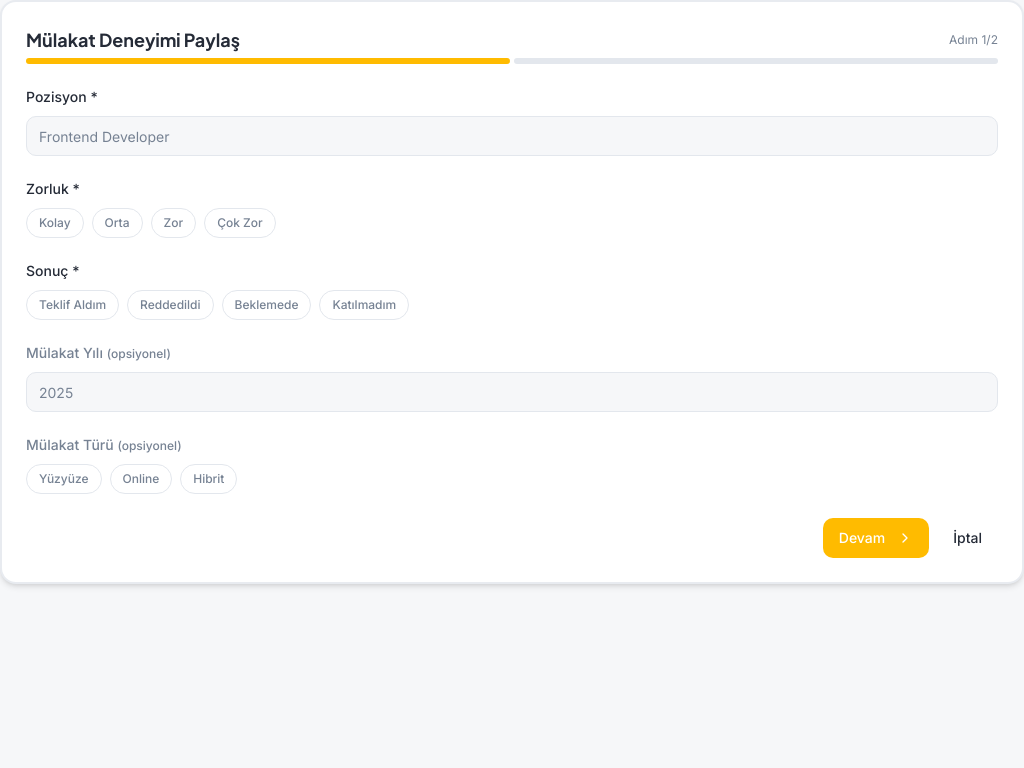
it: InterviewForm › advances to step 2 when required fields filled
Type "Backend Dev" into the field with placeholder "Frontend Developer".
click(512, 136); type("Backend Dev")  # box [26,116,998,156]
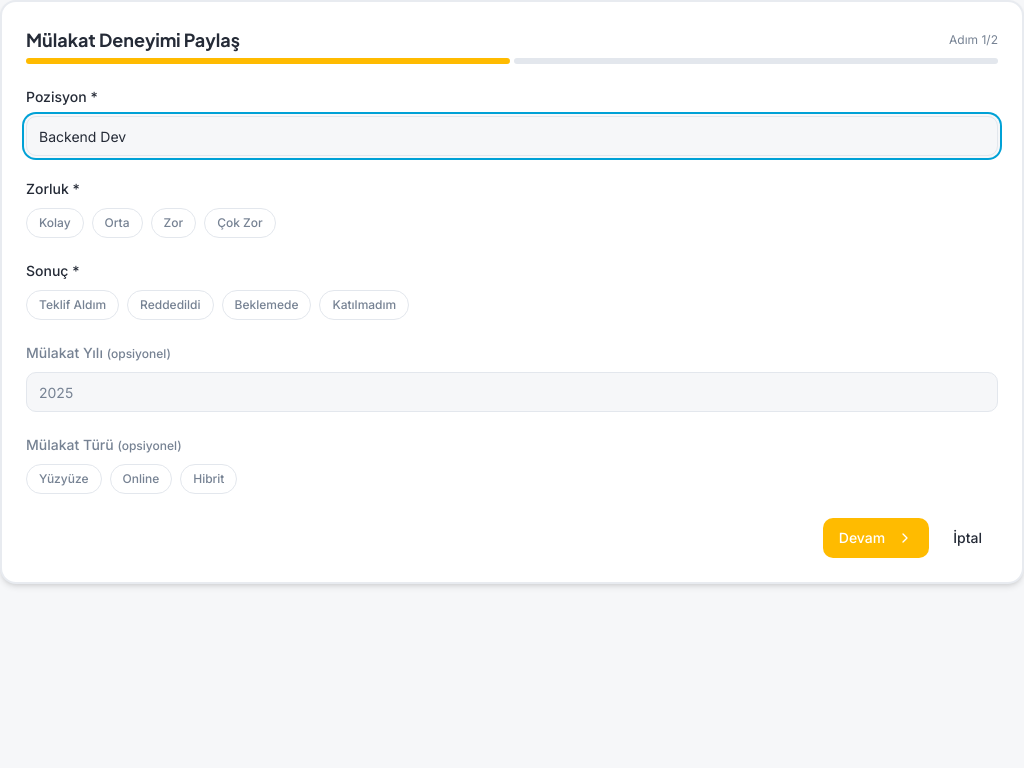
Click the button "Orta".
click(117, 223)  # box [92,208,143,238]
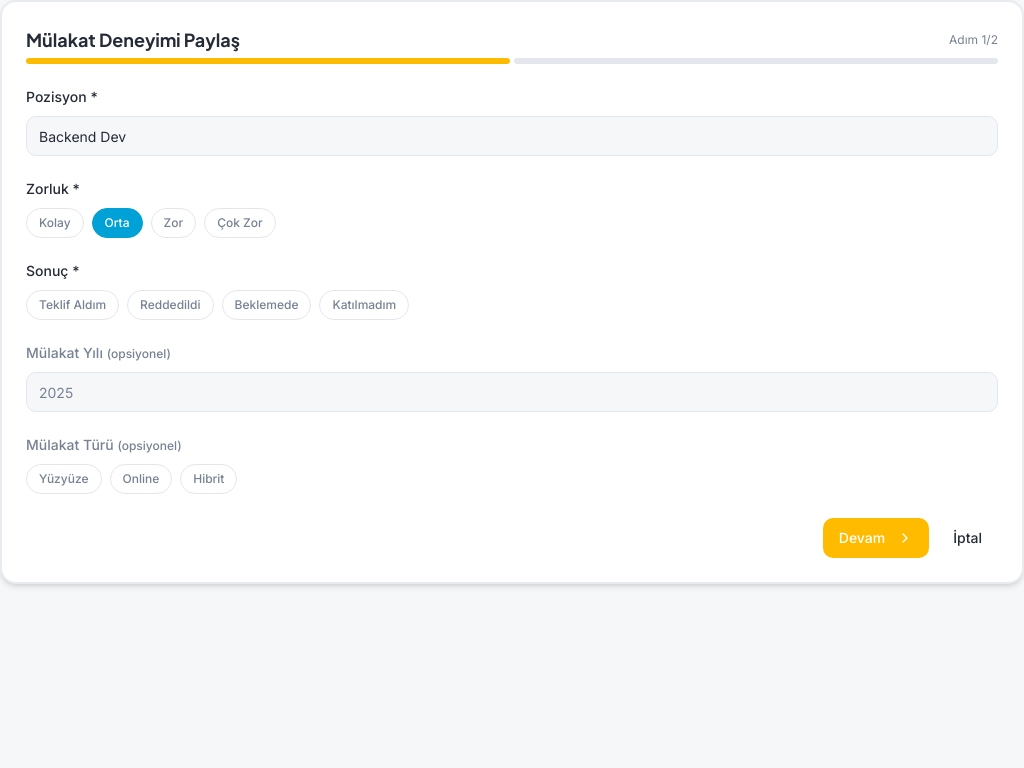
Click the button "Teklif Aldım".
click(73, 305)  # box [26,290,119,320]
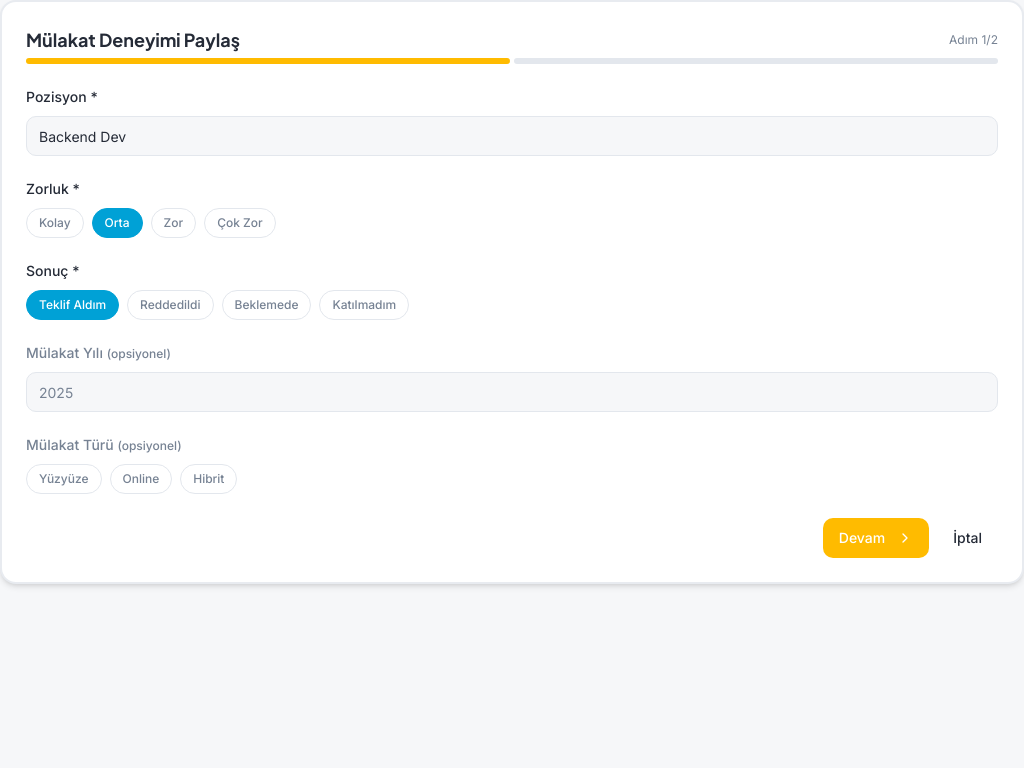
Click the button "Devam".
click(876, 538)  # box [823,518,929,558]
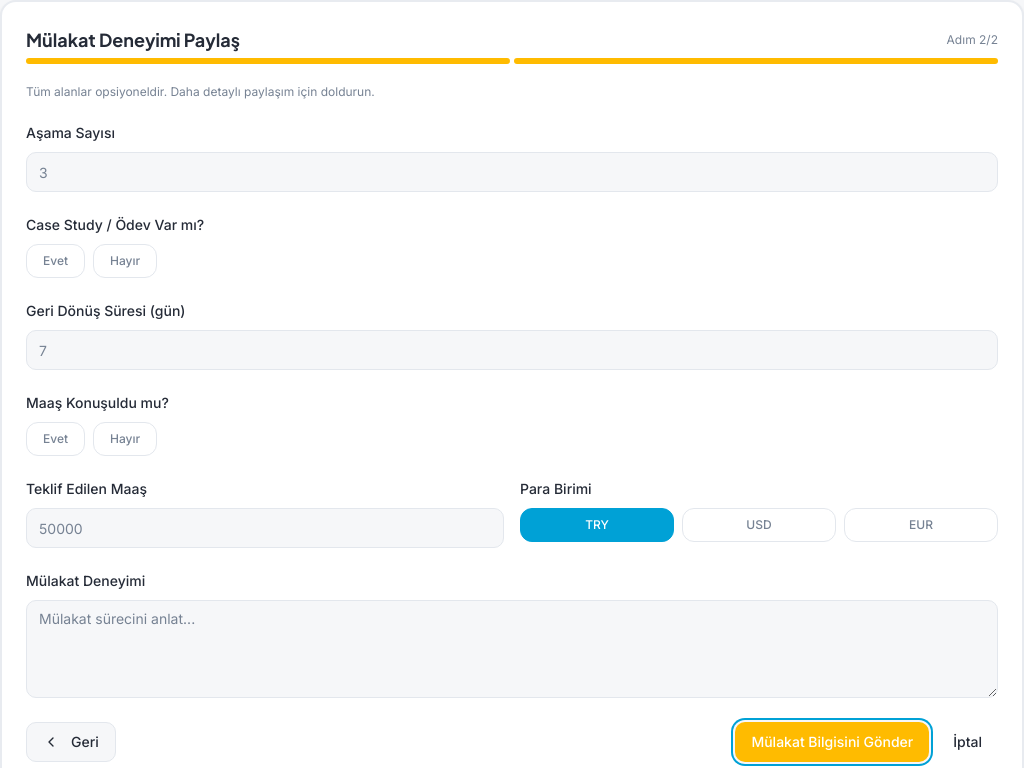
Check: the text "Adım 2/2" is shown, box [947,32,998,48]
